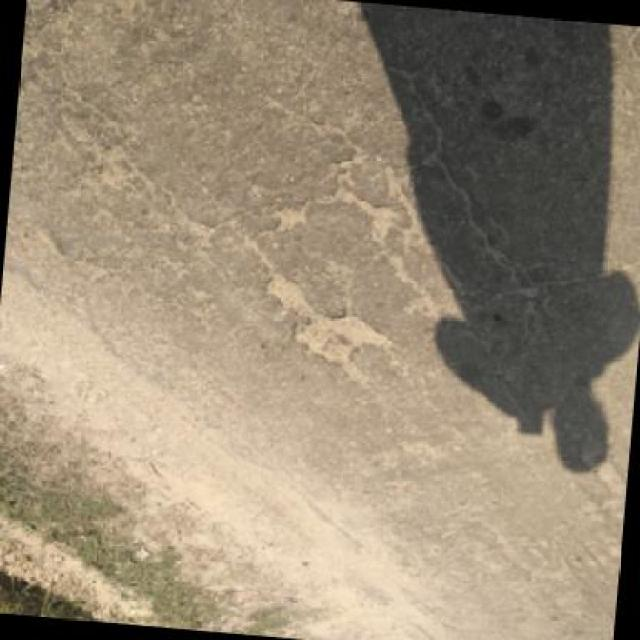pothole1: (254, 271, 397, 384), (269, 200, 311, 237)
